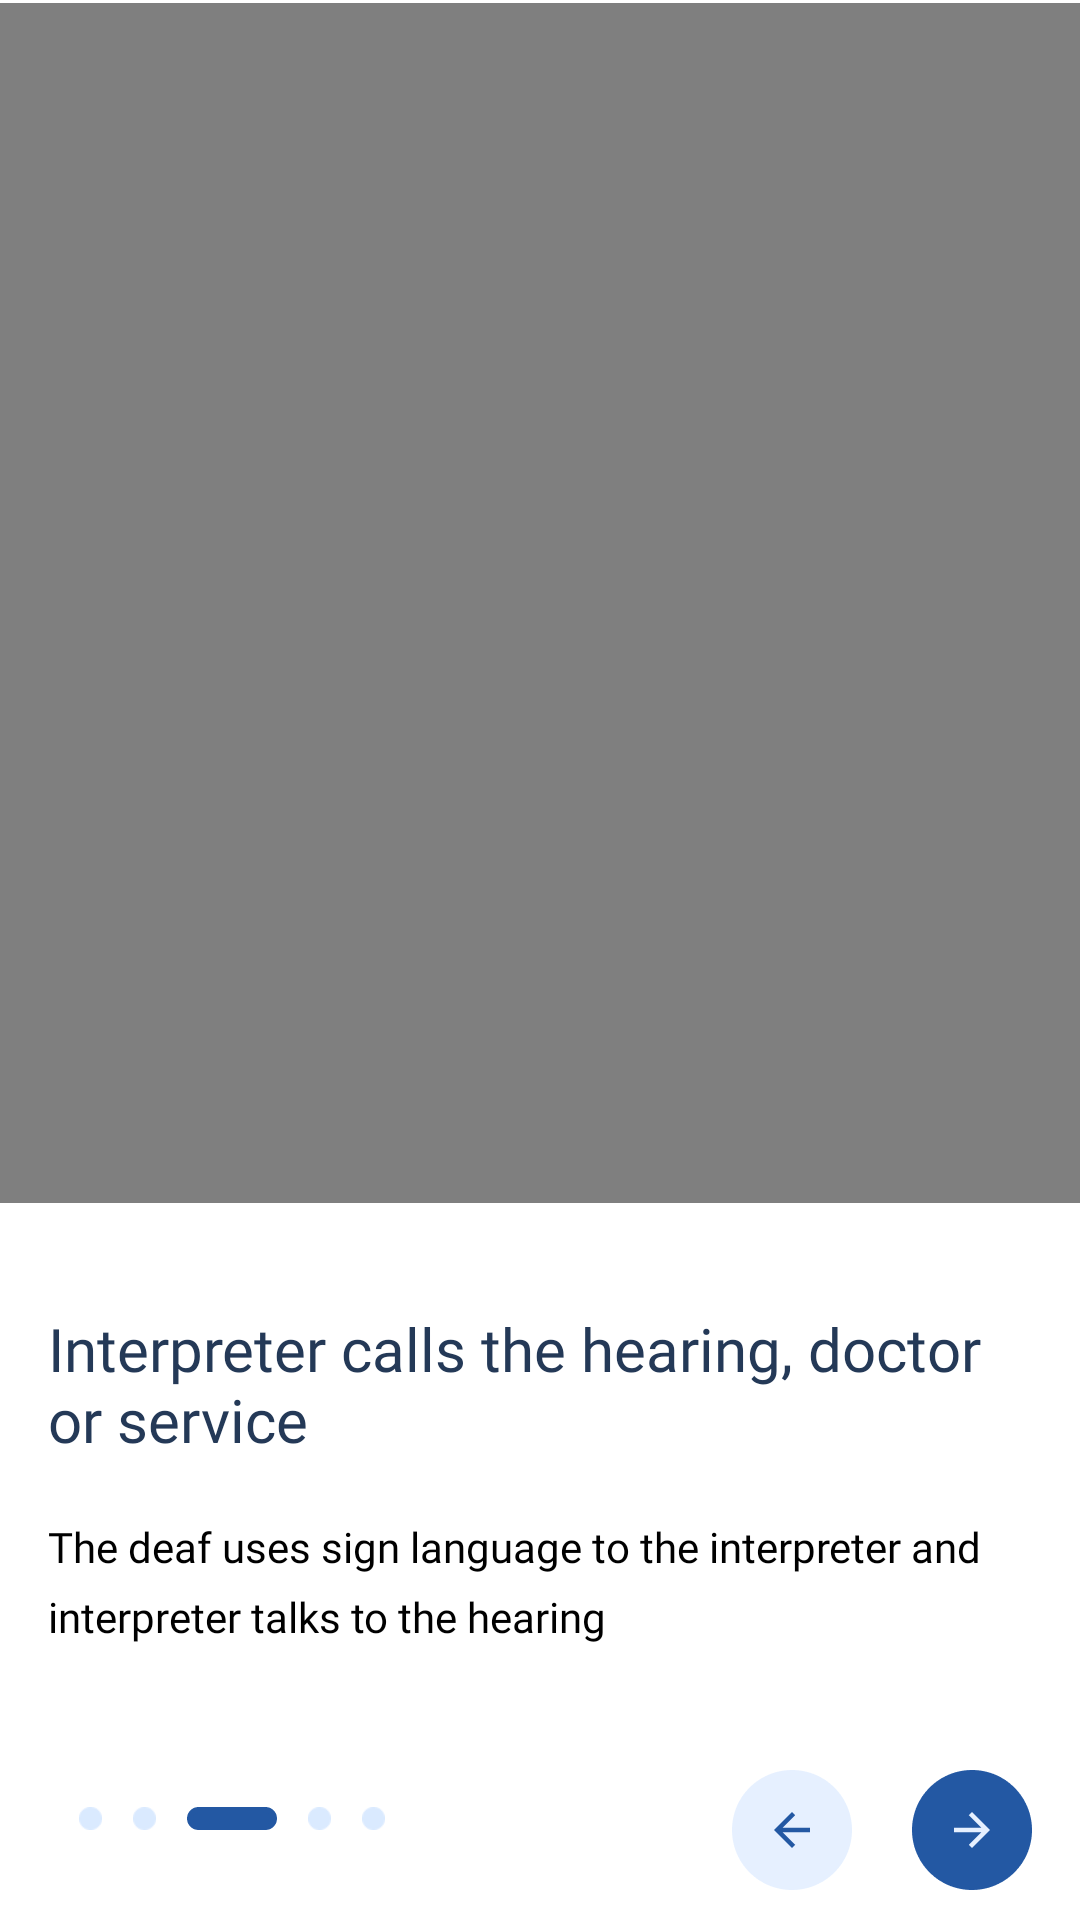

Where to tap for icons on this 1080 × 1920 app screen, as (x=x, y=y):
leftarrow: (x=792, y=1830)
rightarrow: (x=972, y=1830)
